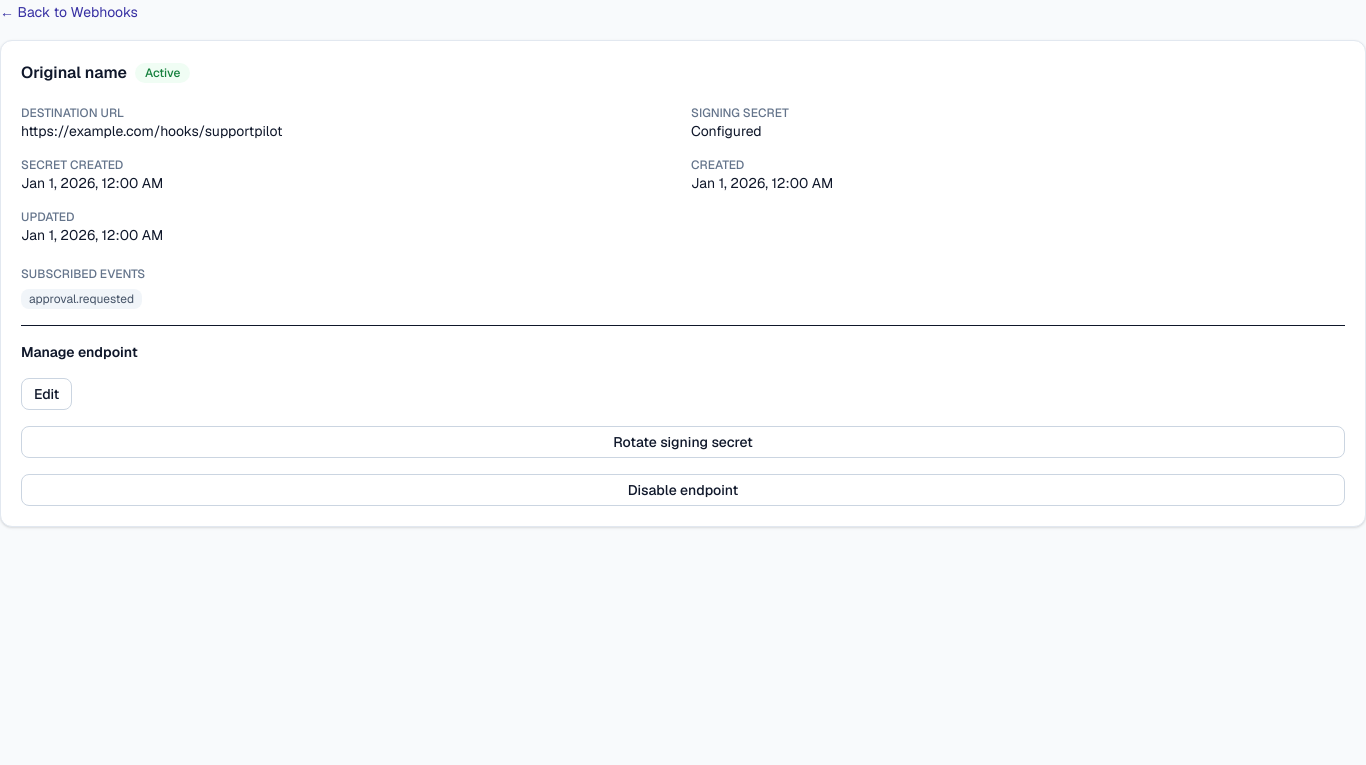
Test: ManageWebhookEndpointControls (Phase 22 Chunk 3) › edits name/URL/subscribed events
Expected: the heading "Original name" is shown, [21,61,127,85]
Click the button "Edit": (47, 394) [21,378,72,410]
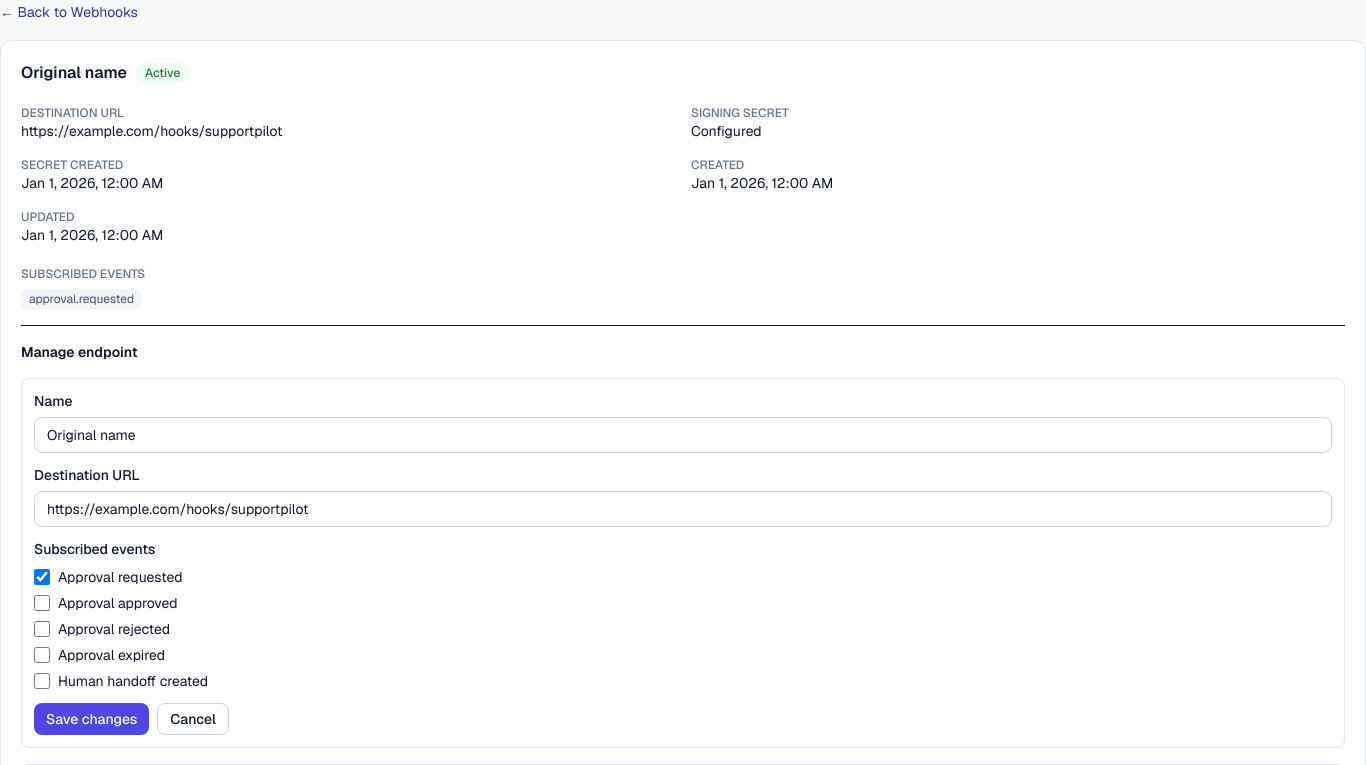
Replace the text in the field labelled "Name" with "Renamed endpoint": (683, 435) [34,417,1332,453]
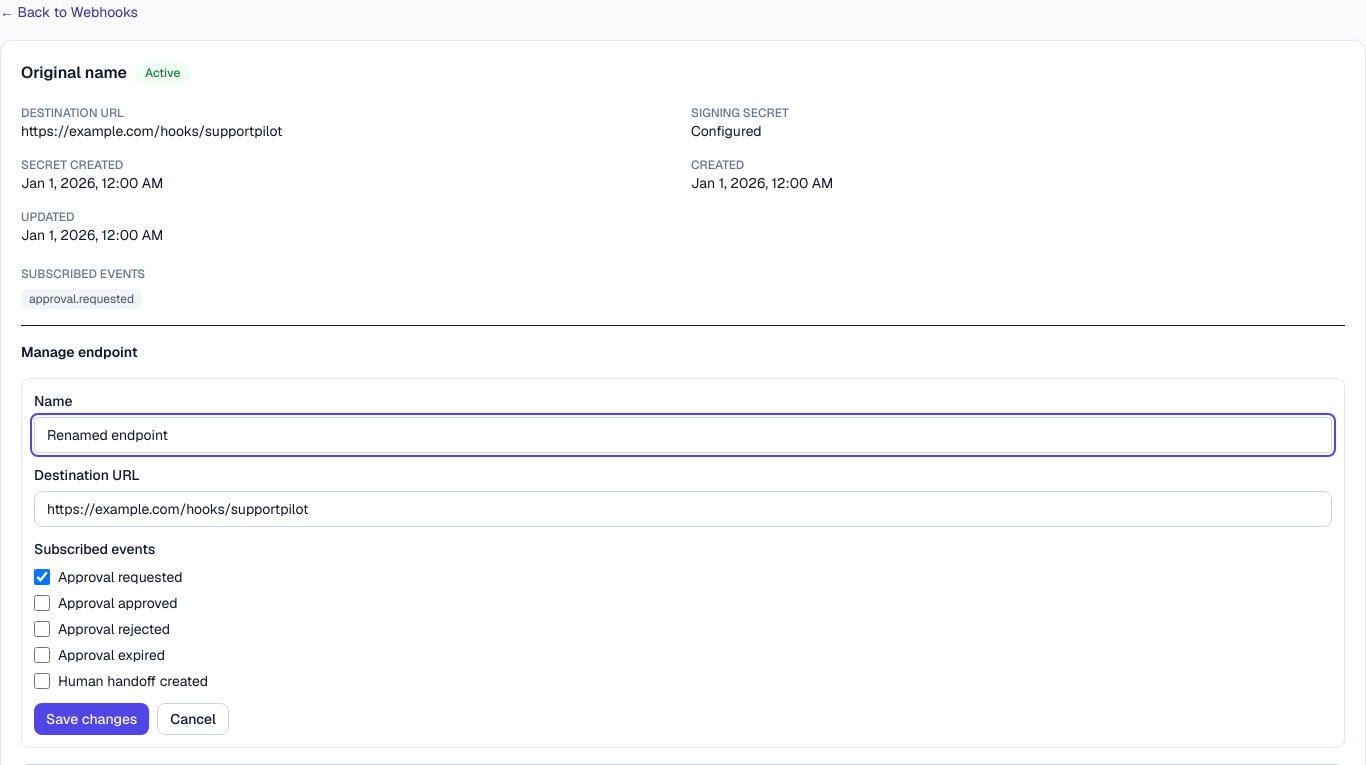
Click the button "Save changes": (92, 719) [34,703,149,735]
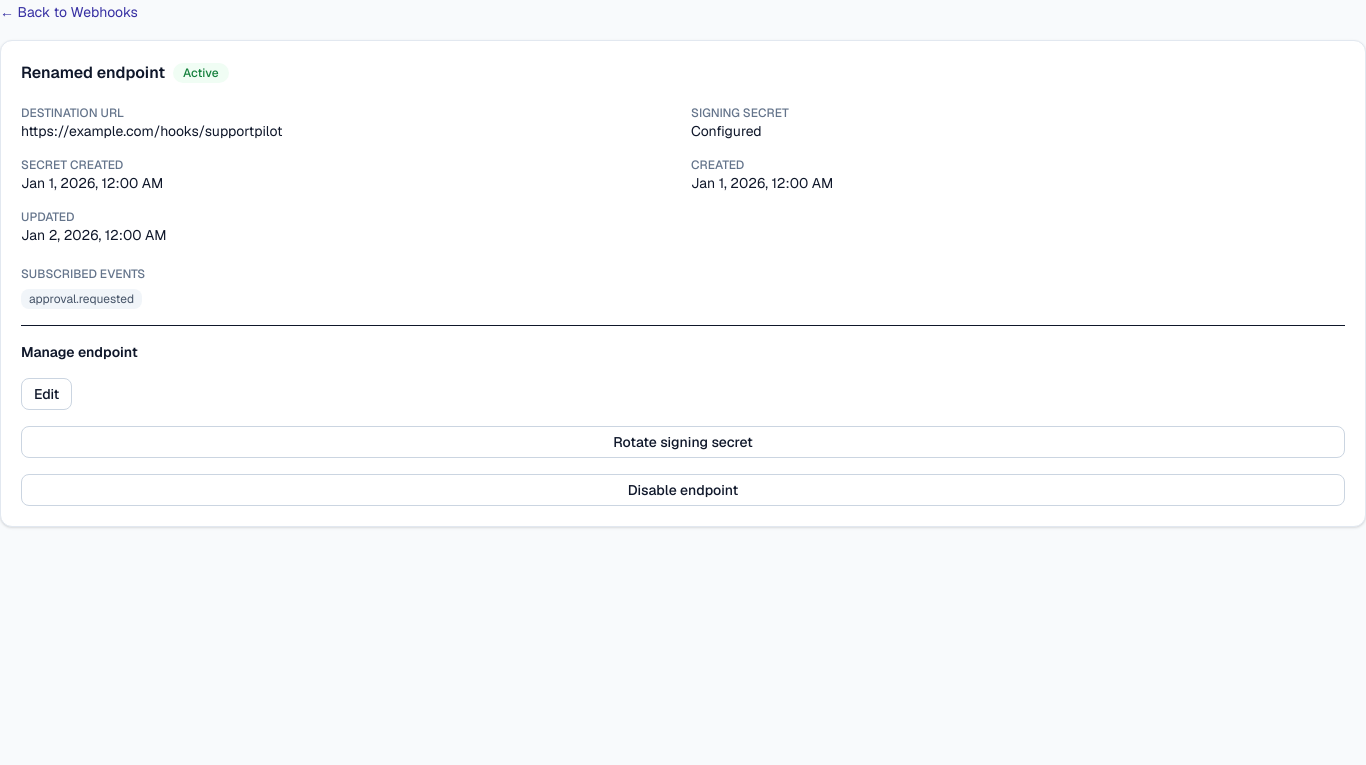
Expected: the heading "Renamed endpoint" is shown, [21,61,165,85]
